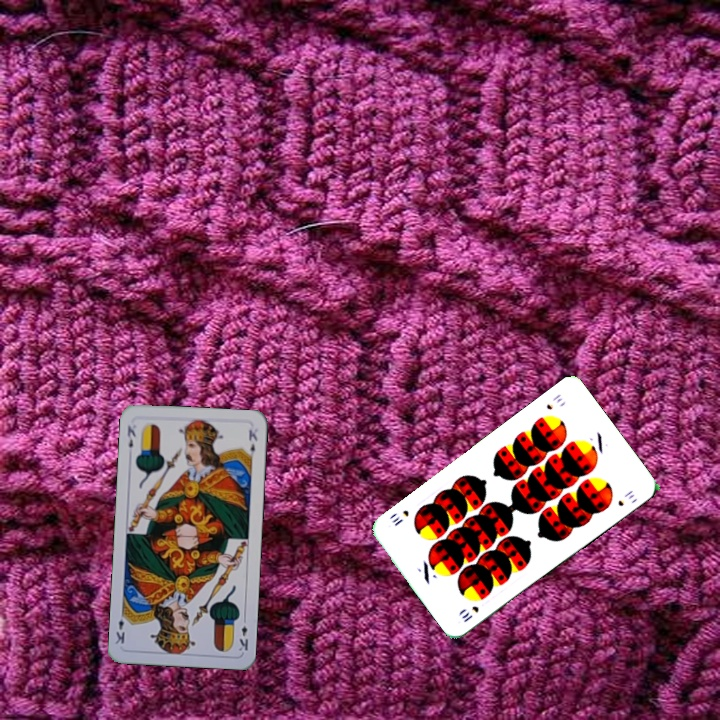EK: (235, 613, 251, 653), (123, 422, 138, 450)
S10: (457, 601, 481, 625), (542, 390, 565, 413)
